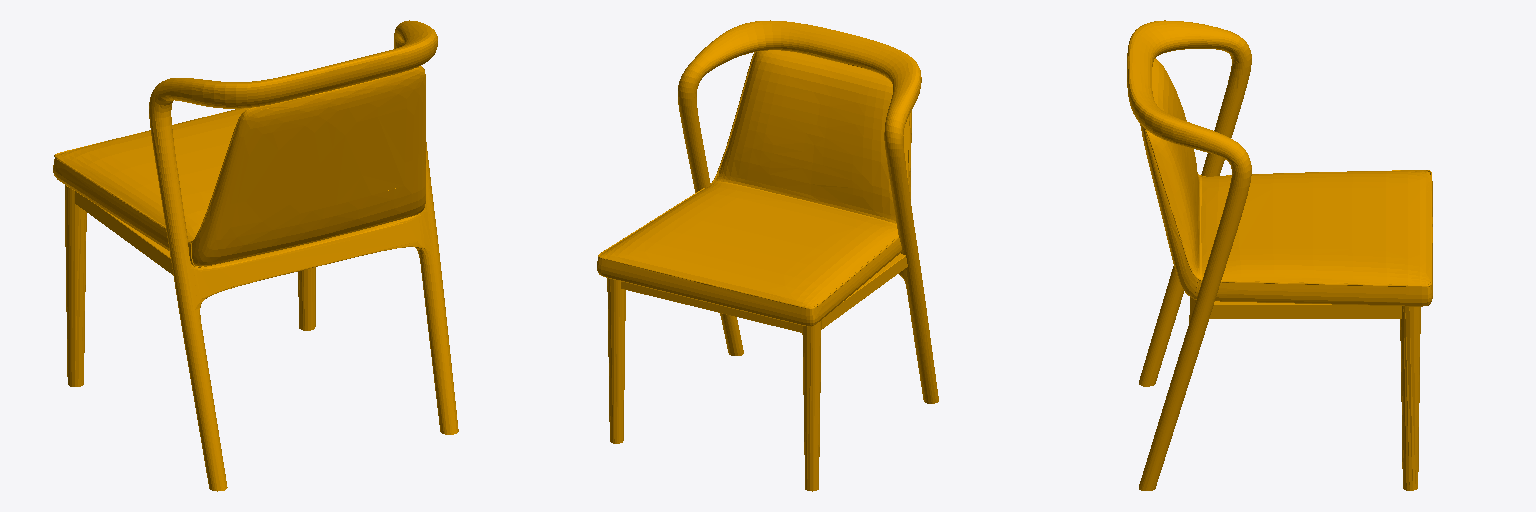
robot.urdf — object:
<?xml version="0.0"?>
	<robot name="object">
		<link name="object">
			<visual>
				<origin xyz="0 0 0"/>
				<geometry>
					<mesh filename="./geom/mesh.obj"/>
				</geometry>
			</visual>
			<inertial>
				<mass value="15.000"/>
			</inertial>
			<collision>
				<origin xyz="0 0 0"/>
				<geometry>
					<mesh filename="./geom/mesh.obj"/>
				</geometry>
			</collision>
		</link>

	</robot>

--- Facts derived from the render (not from the file) ---
Views: 3 orthographic renders of the robot side by side, from view 1: azimuth 30°, elevation 25°; view 2: azimuth 150°, elevation 25°; view 3: azimuth 270°, elevation 25°.
Model object with 1 links and 0 joints (none), rooted at object, posed every joint at zero.
Visible links, largest first — view 1: object; view 2: object; view 3: object.
Boxes of the visible links, <box> form: object: <box>53,20,458,491</box>; object: <box>597,20,938,491</box>; object: <box>1127,20,1432,490</box>.
Bounding box of the posed robot: 0.5865 × 0.6313 × 0.8495 m (x, y, z).
Meshes: 1 distinct files referenced, 1 mesh visuals loaded (1 OBJ).
